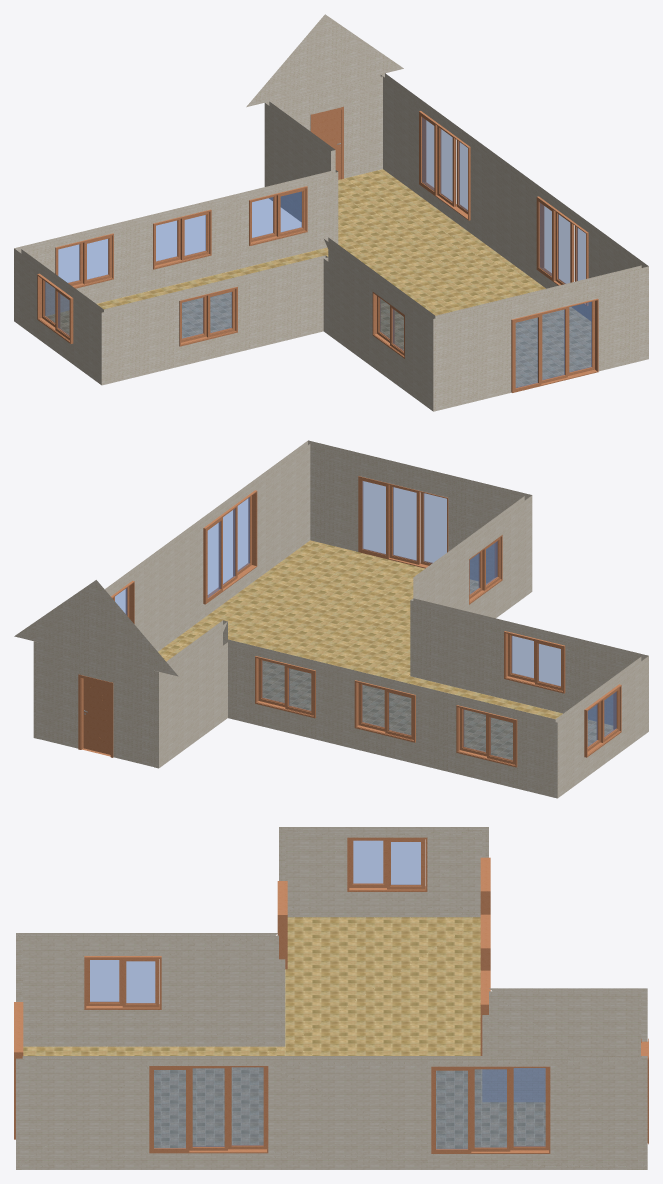
File: telhado46a.glb
The picture shows the model from 3 angles, top to bottom: view 1: azimuth 30°, elevation 25°; view 2: azimuth 150°, elevation 25°; view 3: azimuth 270°, elevation 25°; orthographic projection. The views are drawn at different scales.
Visible parts, largest first — view 1: object 3, root, object 2, object 4; view 2: object 3, root, object 2, object 4; view 3: object 3, root, object 2, object 4.
Part boxes in pixels (x1,y1,x2,y2): object 3: (14, 14, 648, 411); root: (46, 143, 591, 387); object 2: (45, 117, 591, 387); object 4: (37, 106, 598, 392); object 3: (14, 440, 648, 798); root: (84, 540, 613, 759); object 2: (115, 481, 616, 760); object 4: (78, 476, 621, 767); object 3: (16, 827, 647, 1169); root: (23, 917, 545, 1148); object 2: (90, 840, 545, 1149); object 4: (14, 837, 648, 1153).
Bounding box in the file's own units: 14.48 × 5.03 × 14.5.
Materials: 5 (4 with a texture image).
